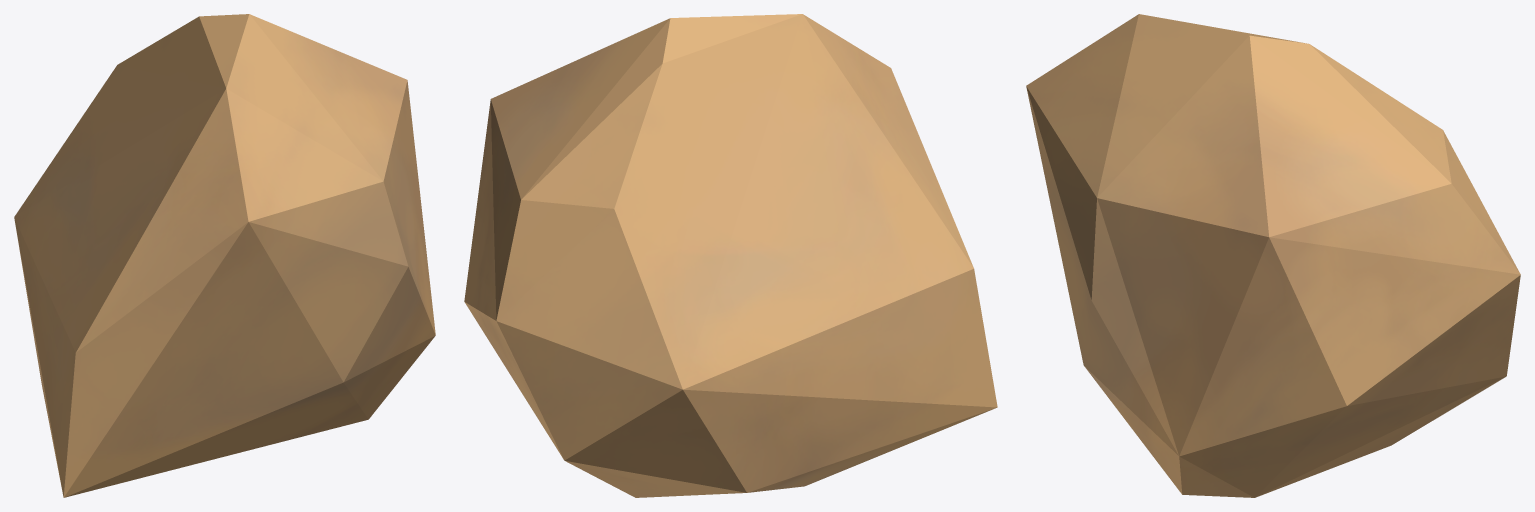
Rendered from Rock_05.fbx.
The picture shows the model from 3 angles, left to right: view 1: azimuth 30°, elevation 25°; view 2: azimuth 150°, elevation 25°; view 3: azimuth 270°, elevation 25°; orthographic projection. The views are drawn at different scales.
Visible parts, largest first — view 1: Rock_05; view 2: Rock_05; view 3: Rock_05.
Boxes of the visible parts, <box> form: Rock_05: <box>14,14,435,497</box>; Rock_05: <box>464,14,997,497</box>; Rock_05: <box>1026,14,1520,497</box>.
Bounding box in the file's own units: 334 × 324 × 329.
1 material, 1 textured.
